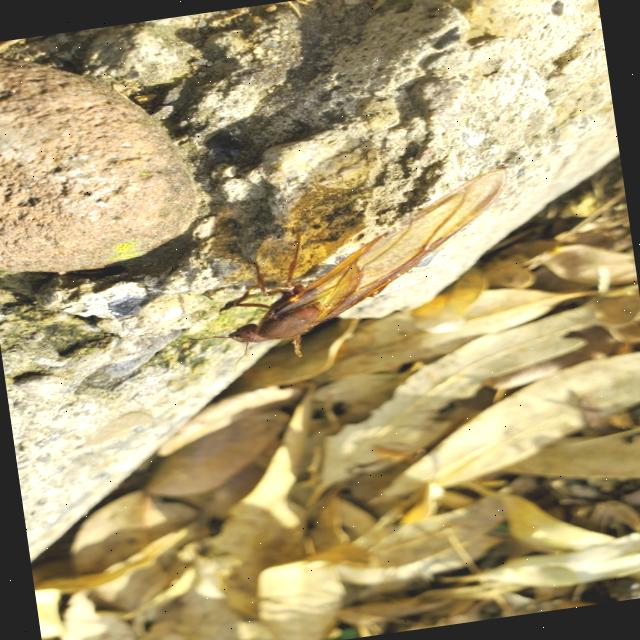Alive-Female-Alate: (168, 167, 529, 378)
